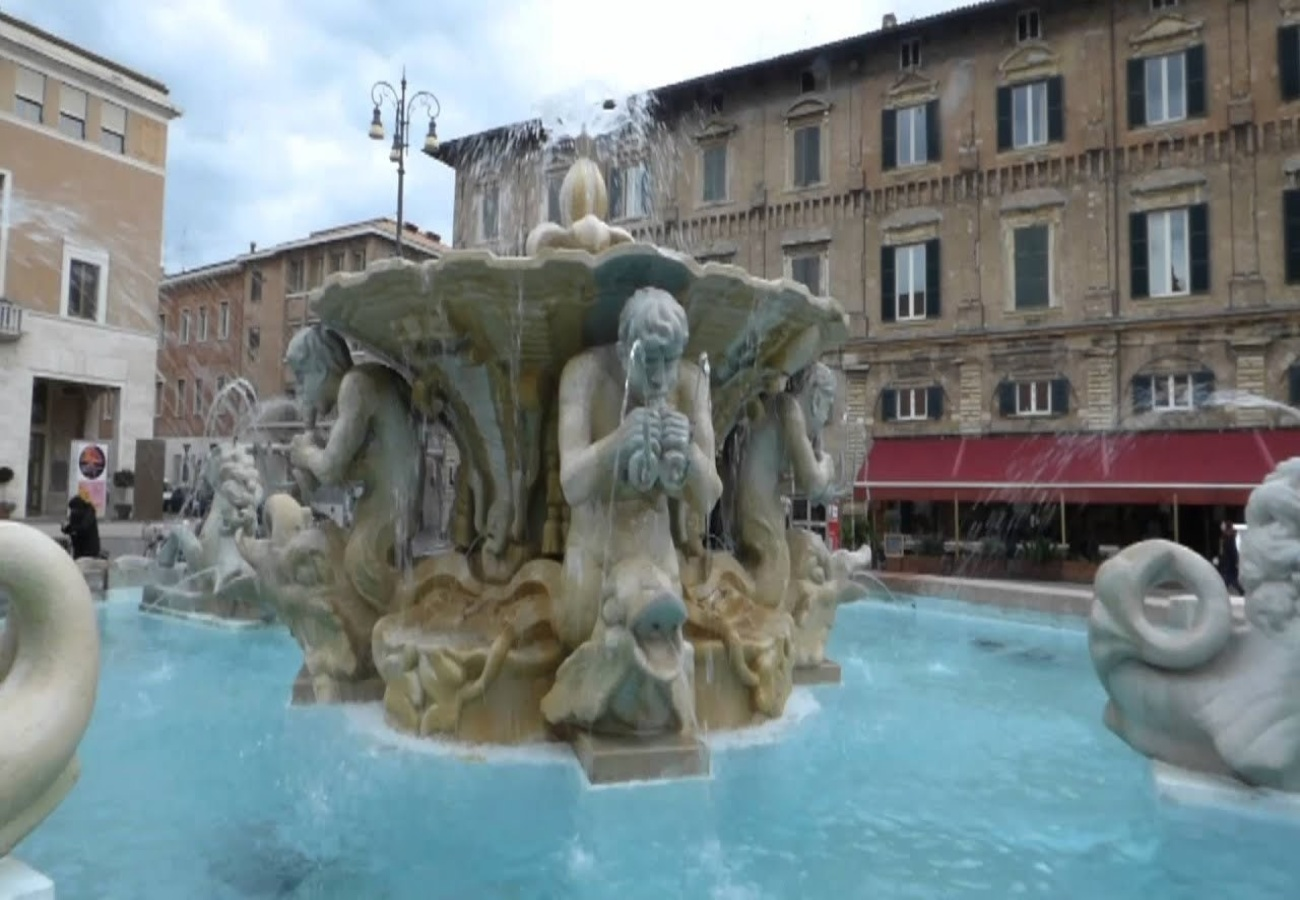Fontana Piazza del Popolo: (280, 244, 854, 785)
